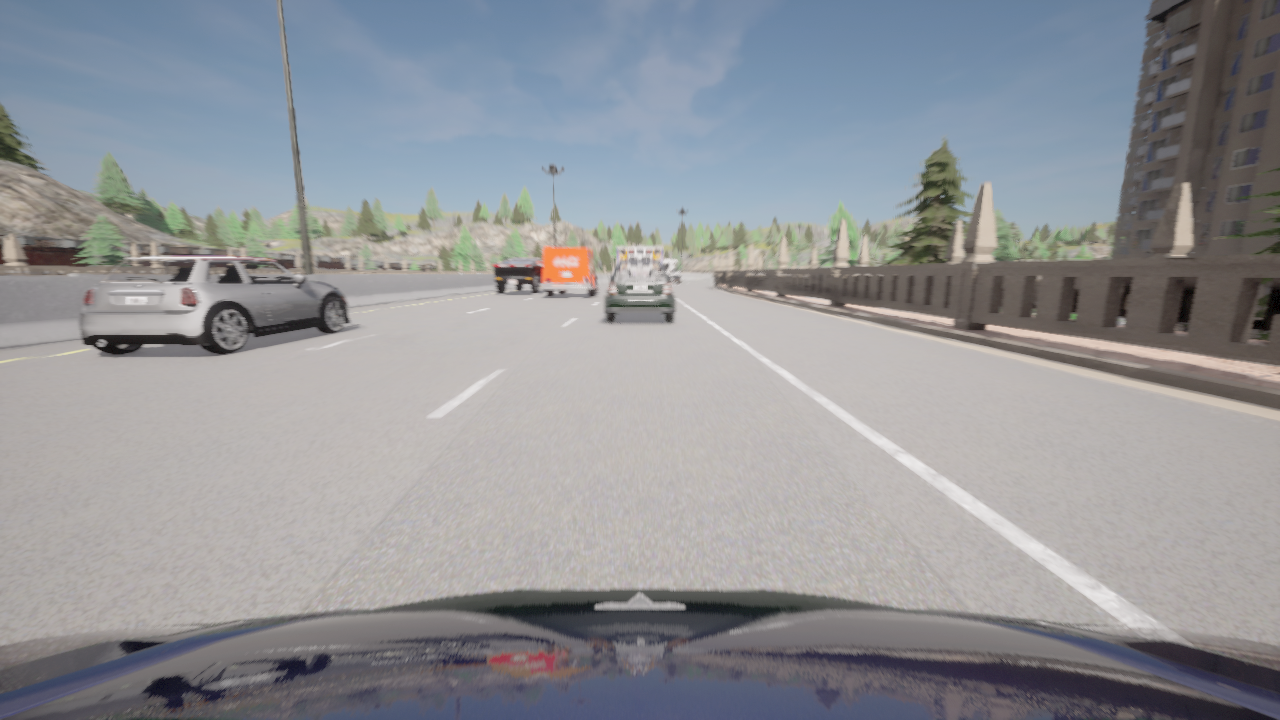cyclist: (0, 588, 1279, 719), (79, 256, 349, 354), (605, 260, 674, 322), (542, 247, 600, 296), (493, 259, 543, 293), (617, 247, 662, 263), (663, 259, 681, 283)
